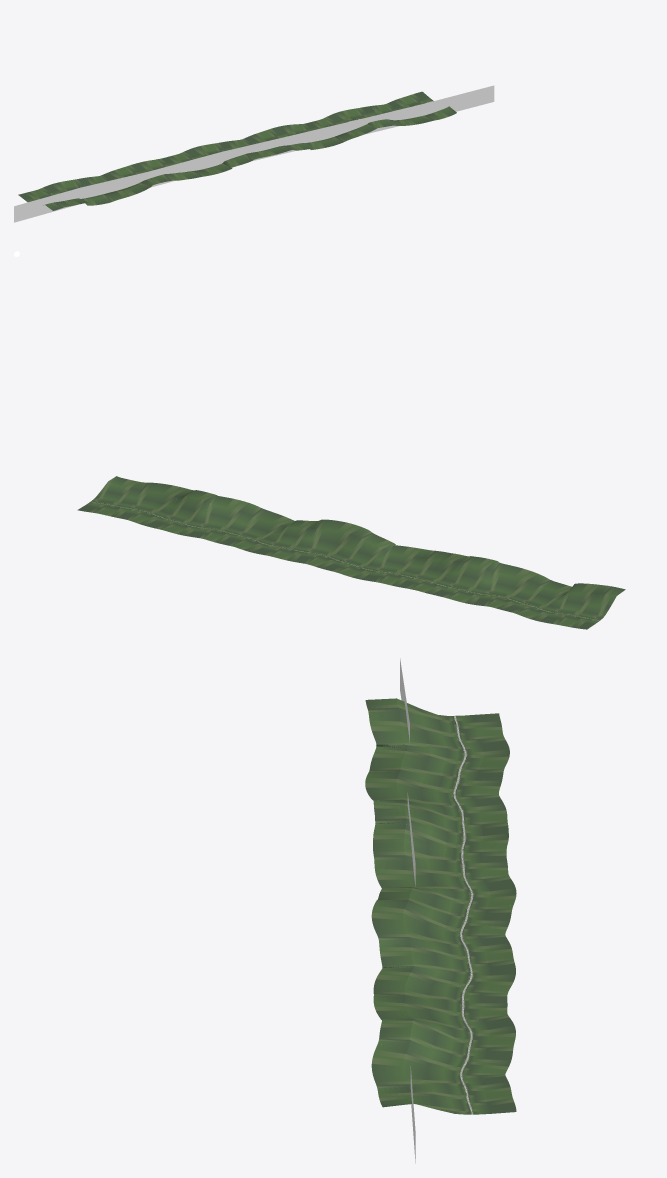
File: kyoto.glb
The picture shows the model from 3 angles, top to bottom: view 1: azimuth 30°, elevation 25°; view 2: azimuth 150°, elevation 25°; view 3: azimuth 270°, elevation 25°; orthographic projection. The views are drawn at different scales.
Parts seen in each view (by area): view 1: Higashiyama; view 2: KyotoGardens_024, KyotoGardens_033, KyotoGardens_008, KyotoGardens_009, KyotoGardens_002, KyotoGardens_040, KyotoGardens_000, KyotoGardens_021, KyotoGardens_023, KyotoGardens_039, KyotoGardens_031, KyotoGardens_030 (+15 smaller); view 3: KyotoGardens_039, KyotoGardens_024, KyotoGardens_040, KyotoGardens_002, KyotoGardens_030, KyotoGardens_015, KyotoGardens_014, KyotoGardens_008, KyotoGardens_027, KyotoGardens_017, KyotoGardens_037, KyotoGardens_005 (+32 smaller).
Part boxes in pixels (bbox=[...]): Higashiyama: bbox=[14, 85, 494, 222]; KyotoGardens_024: bbox=[305, 520, 358, 564]; KyotoGardens_033: bbox=[203, 498, 250, 540]; KyotoGardens_008: bbox=[487, 568, 542, 607]; KyotoGardens_009: bbox=[478, 563, 519, 606]; KyotoGardens_002: bbox=[555, 583, 599, 625]; KyotoGardens_040: bbox=[124, 482, 174, 520]; KyotoGardens_000: bbox=[577, 586, 625, 629]; KyotoGardens_021: bbox=[331, 535, 391, 573]; KyotoGardens_023: bbox=[310, 526, 370, 567]; KyotoGardens_039: bbox=[130, 486, 192, 522]; KyotoGardens_031: bbox=[222, 508, 277, 545]; KyotoGardens_030: bbox=[231, 514, 294, 547]; KyotoGardens_039: bbox=[372, 1044, 507, 1074]; KyotoGardens_024: bbox=[371, 908, 505, 940]; KyotoGardens_040: bbox=[371, 1062, 506, 1083]; KyotoGardens_002: bbox=[369, 720, 504, 743]; KyotoGardens_030: bbox=[374, 970, 509, 994]; KyotoGardens_015: bbox=[373, 837, 506, 859]; KyotoGardens_014: bbox=[373, 824, 508, 850]; KyotoGardens_008: bbox=[365, 775, 499, 797]; KyotoGardens_027: bbox=[379, 948, 514, 967]; KyotoGardens_017: bbox=[374, 861, 508, 877]; KyotoGardens_037: bbox=[379, 1027, 513, 1056]; KyotoGardens_005: bbox=[371, 748, 507, 770].
Size of the model in its own units: 14992 by 2789 by 4108.
